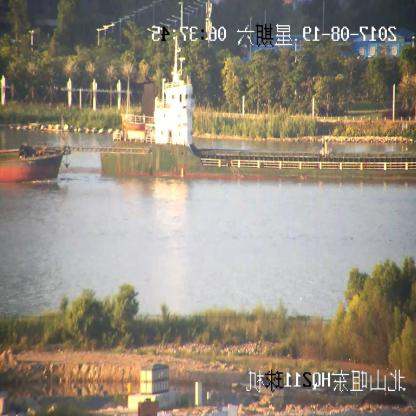Bulk Carrier: (100, 54, 416, 178), (0, 131, 96, 183)
